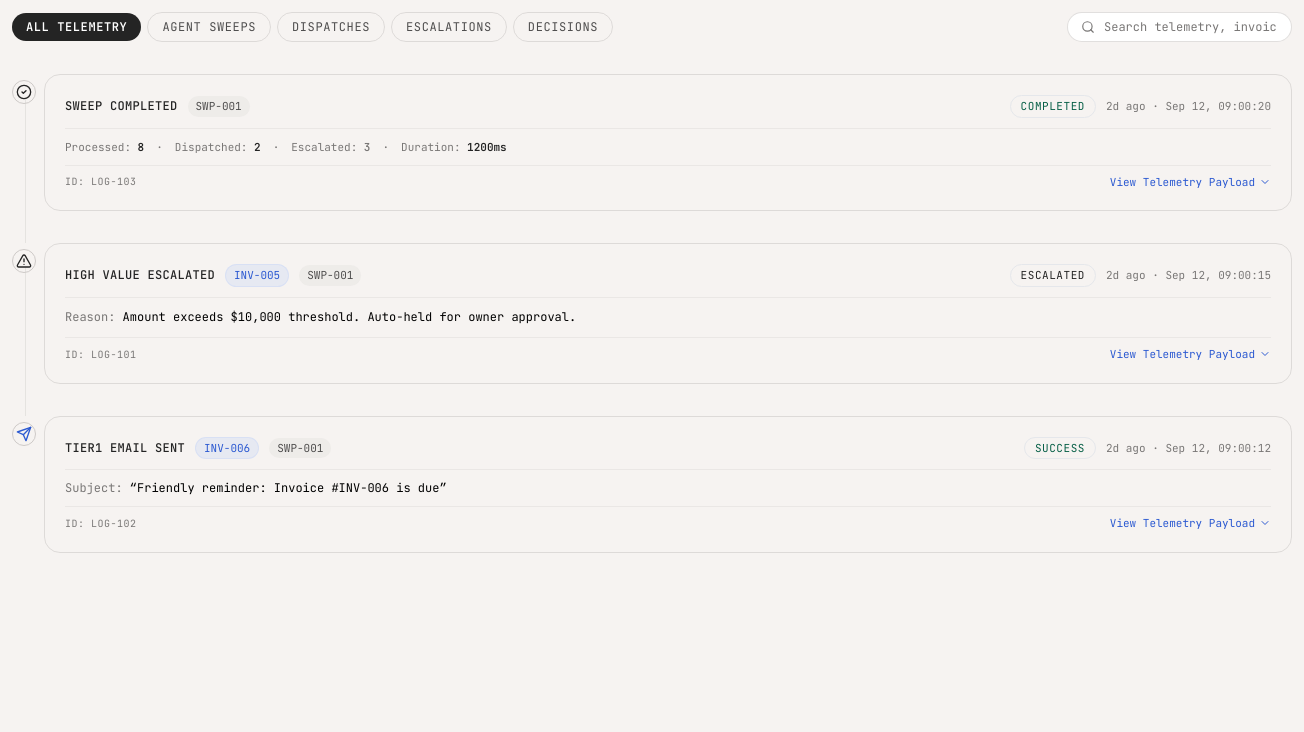
Test case: AuditTimeline Component › filters entries when search term is entered
The image size is (1304, 732).
Type "INV-006" into the field with placeholder "Search telemetry, invoices...". click: (1180, 27)
box: [1067,12,1292,42]
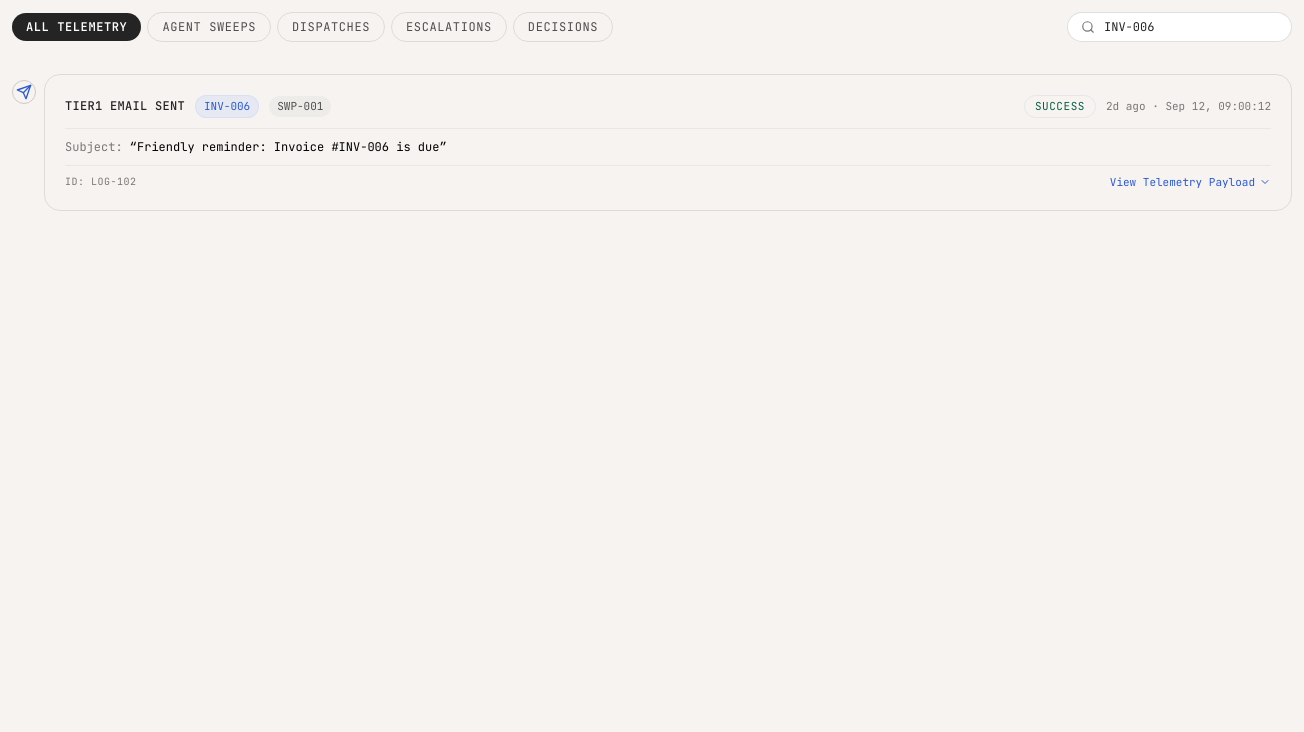
Check: the text "TIER1 EMAIL SENT" is shown, box [65,98,185,114]
Check: the text "HIGH VALUE ESCALATED" is gone
